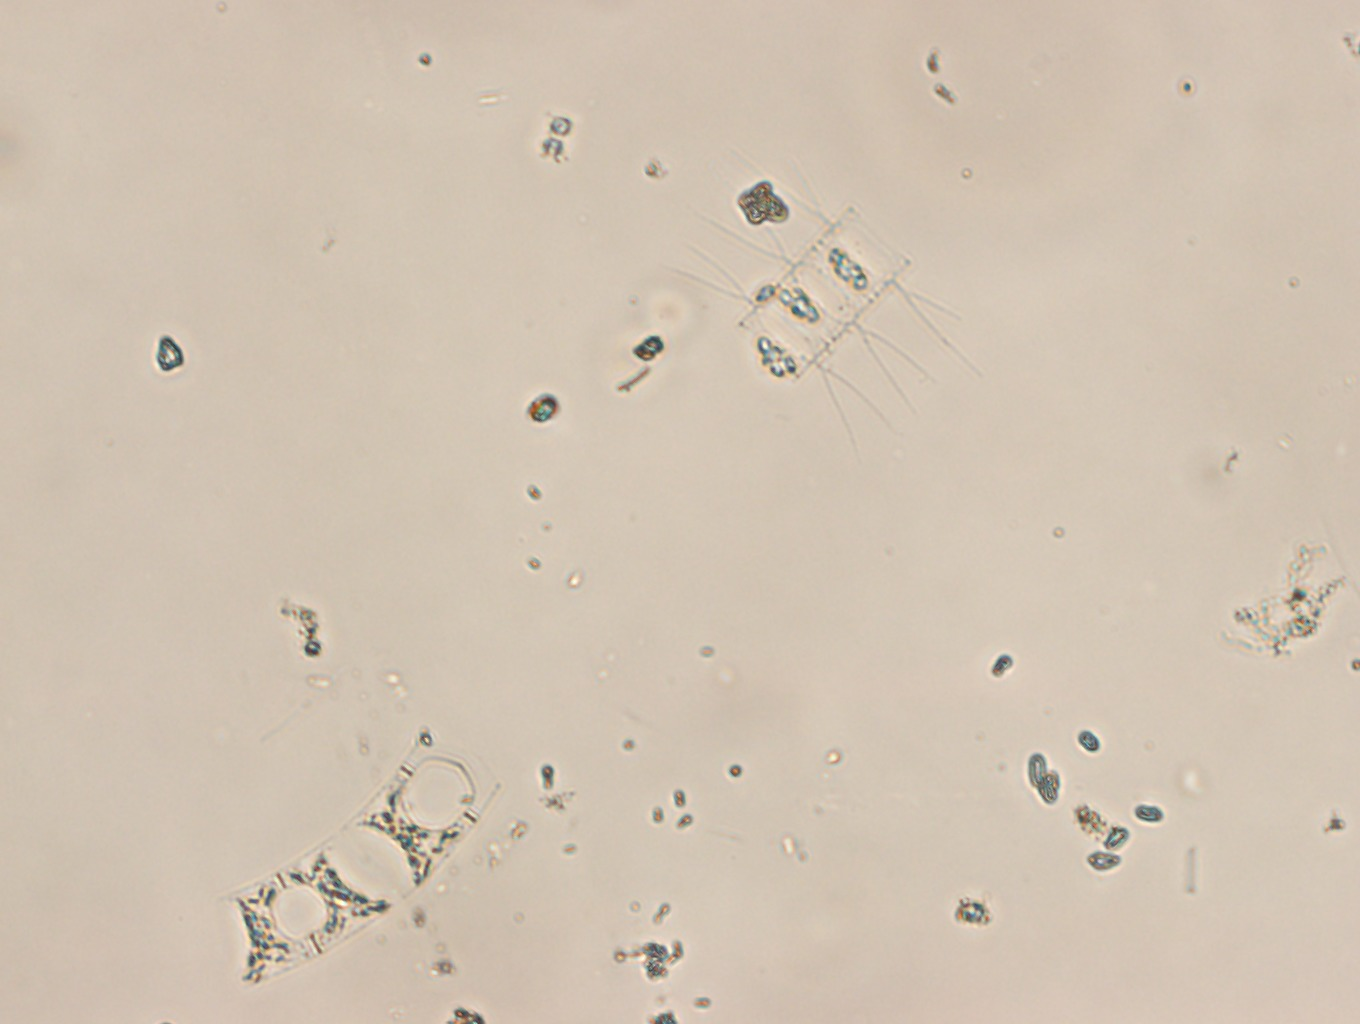chaetoceros: (669, 143, 985, 463)
eucampia: (210, 731, 506, 986)
